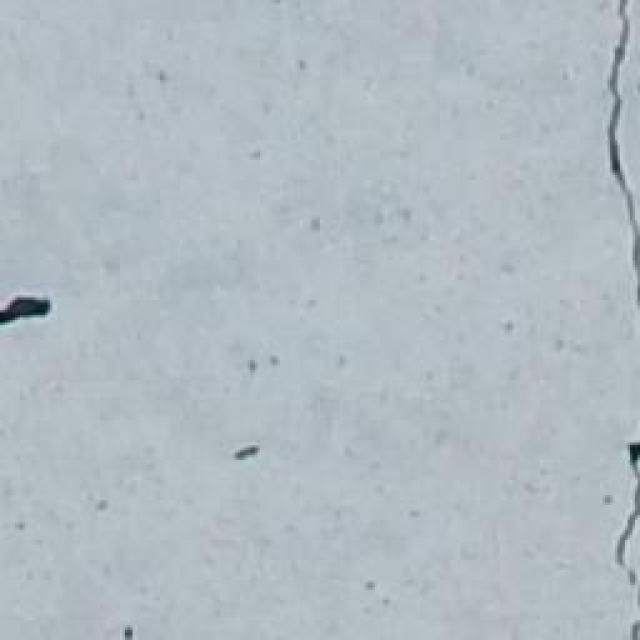concrete-crack: (598, 1, 640, 287), (612, 437, 640, 592), (0, 292, 52, 328)
